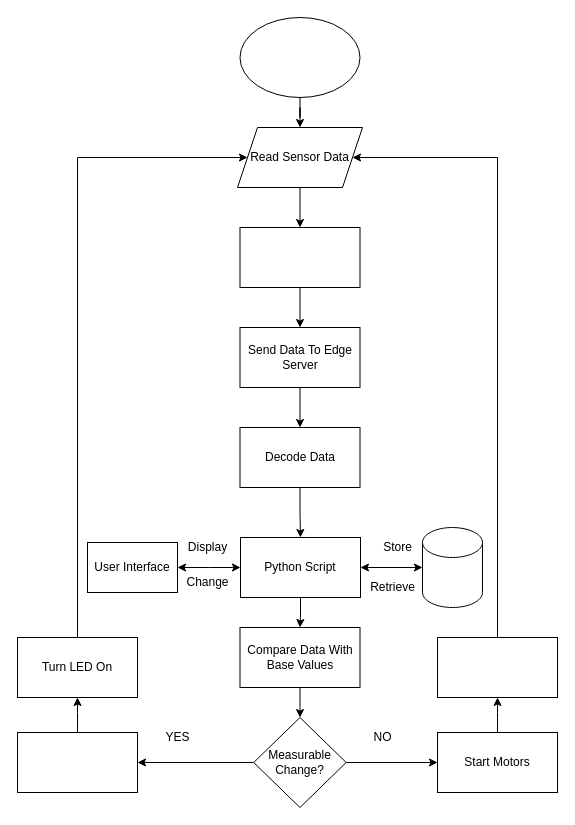
This 575x825 diagram has some shape labels left out. Each missing label, with the box of its shape:
Begin: (239, 16, 360, 98)
Database: (422, 526, 482, 608)
Set Base Values: (239, 226, 360, 288)
Stop Motors: (16, 732, 138, 792)
Turn LED Off: (436, 636, 558, 698)
